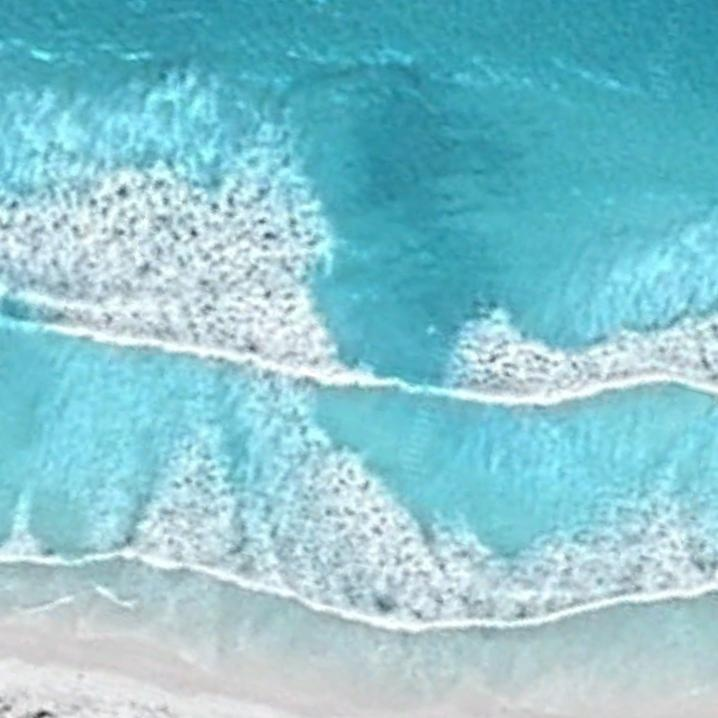rip_current: (250, 162, 541, 592)
